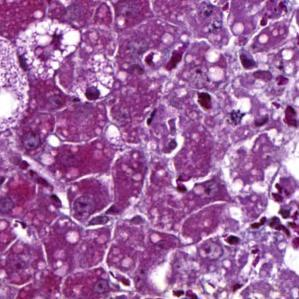ballooning: (15, 15, 82, 82)
